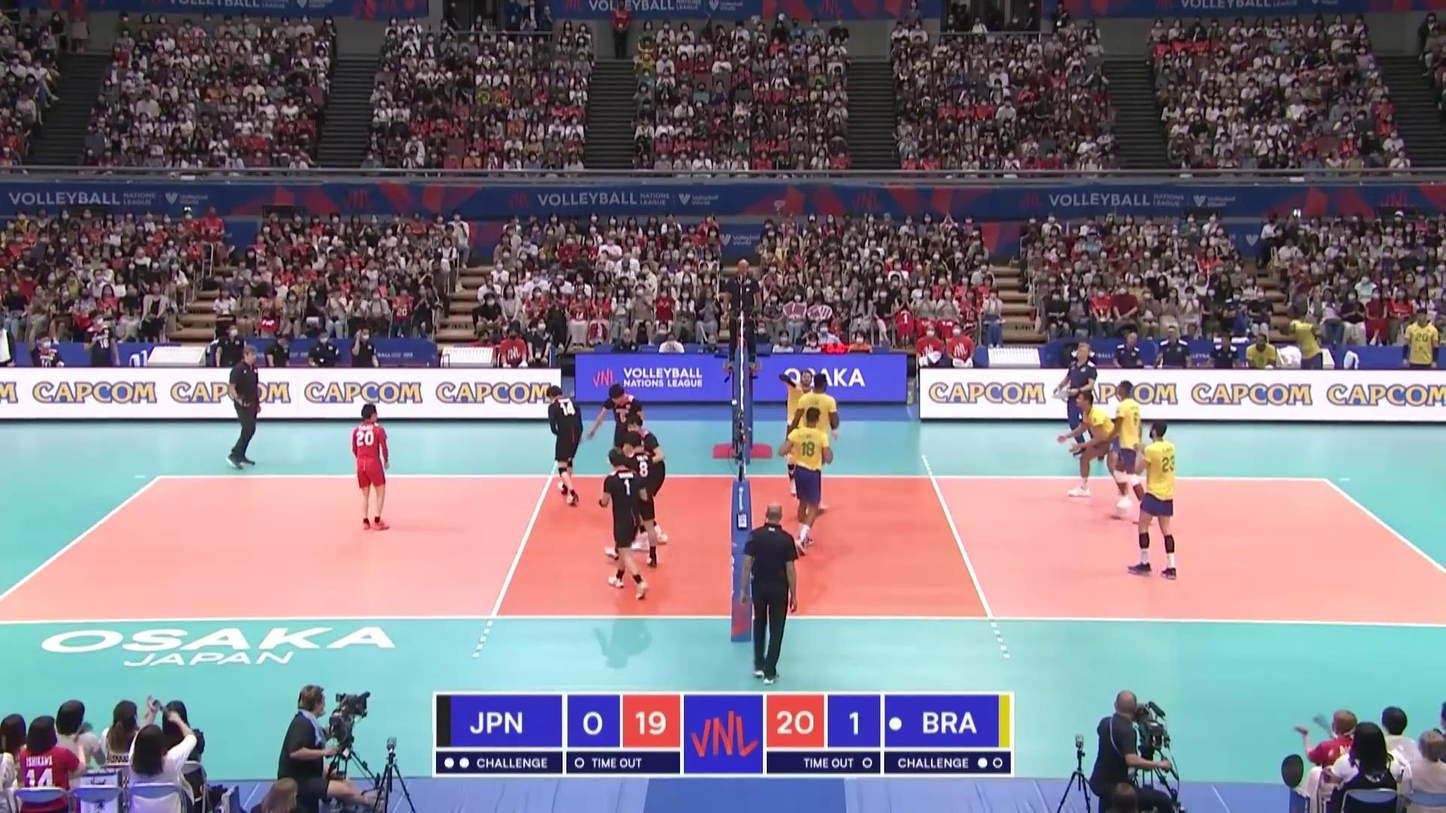player: (1125, 419, 1180, 577), (1060, 392, 1136, 504), (1100, 380, 1155, 522), (602, 433, 659, 568), (603, 447, 648, 600), (787, 410, 832, 556), (621, 415, 670, 549), (796, 373, 839, 513), (776, 368, 819, 495), (351, 404, 393, 529), (544, 383, 583, 511), (604, 385, 643, 503)
refree: (739, 505, 798, 680), (724, 259, 761, 370)
